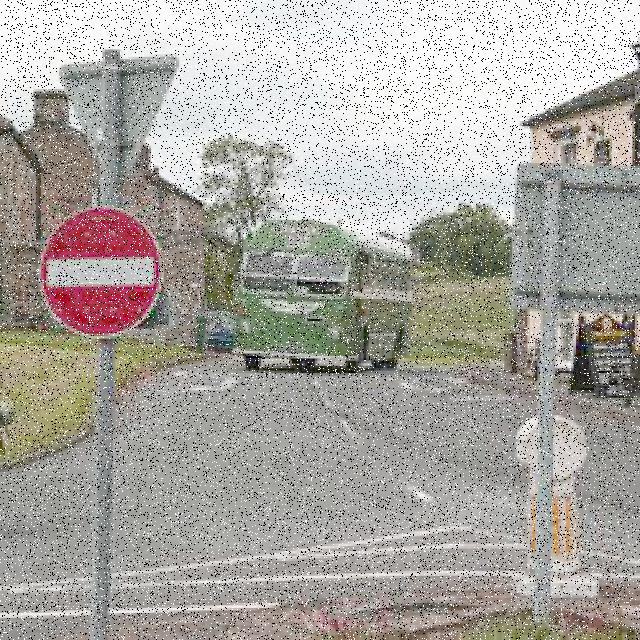no entry: (36, 205, 161, 339)
